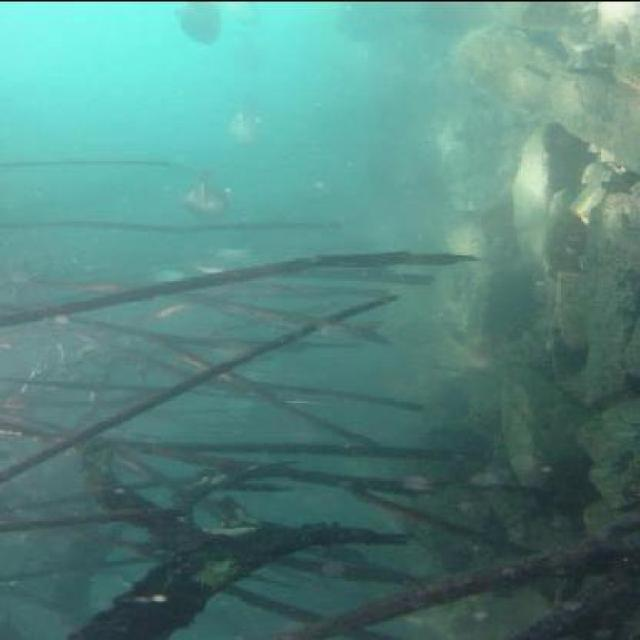Caranx_sexfasciatus_juvenile: (171, 164, 240, 218), (218, 91, 268, 146), (171, 0, 226, 42), (224, 25, 270, 73), (211, 243, 264, 265)
